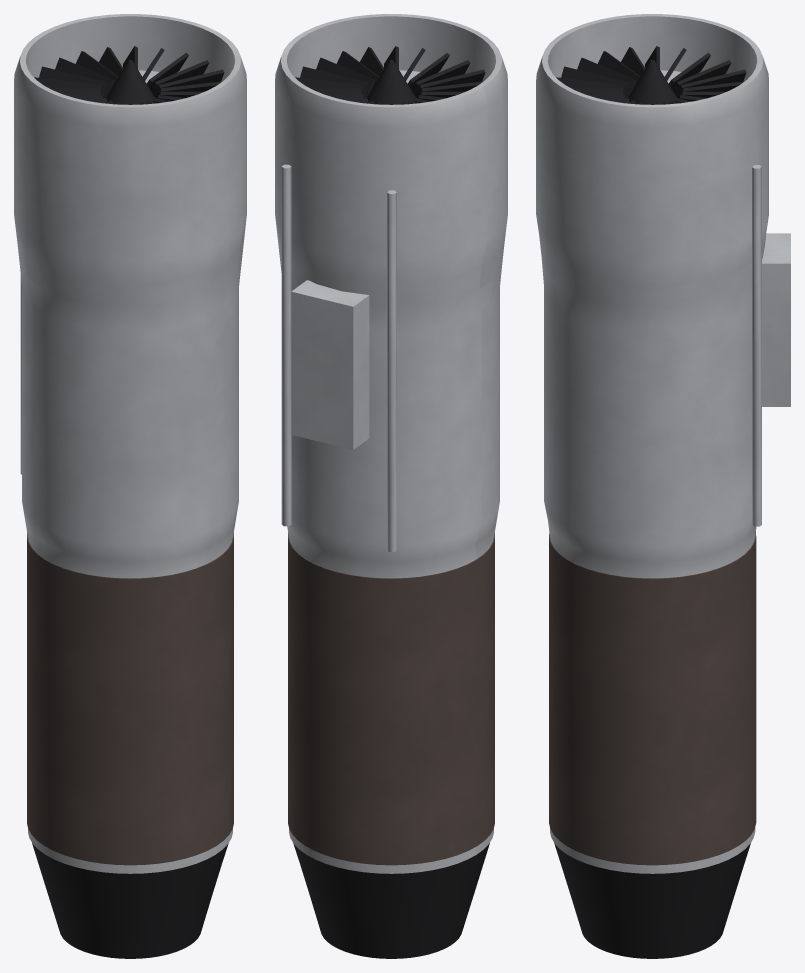
The model's file is jet02_low_bypass_fan.glb.
The picture shows the model from 3 angles, left to right: view 1: azimuth 30°, elevation 25°; view 2: azimuth 150°, elevation 25°; view 3: azimuth 270°, elevation 25°; orthographic projection.
Parts seen in each view (by area): view 1: casing, ab_section, nozzle, spinner_vanes; view 2: casing, ab_section, plumbing, nozzle, spinner_vanes; view 3: casing, ab_section, nozzle, plumbing, spinner_vanes.
Part boxes in pixels (x1,y1,x2,y2): casing: (14,14,246,873); ab_section: (27,533,233,865); nozzle: (32,843,228,958); spinner_vanes: (34,46,224,104); casing: (275,14,507,873); ab_section: (288,533,494,865); plumbing: (281,164,396,551); nozzle: (293,843,489,958); spinner_vanes: (295,46,485,104); casing: (536,14,768,873); ab_section: (549,532,756,865); nozzle: (554,843,750,958); plumbing: (752,165,790,526); spinner_vanes: (556,46,746,104).
Bounding box in the file's own units: 1.18 × 4.85 × 1.29.
3 materials, 2 textured.
